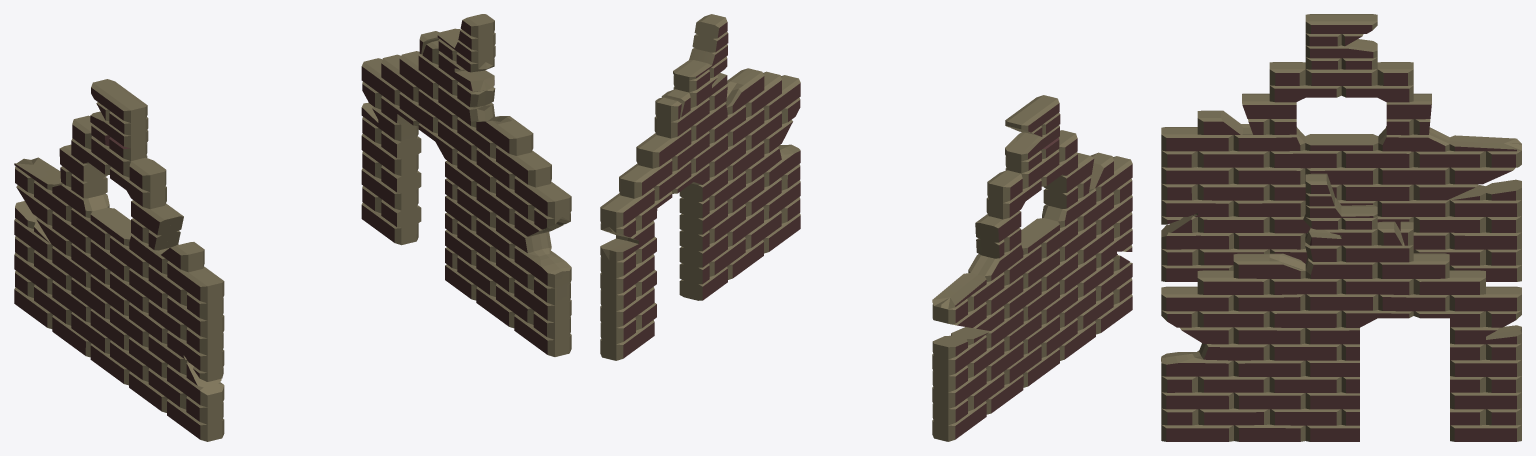
The model's file is house_ruins.fbx.
3 views of the same model, side by side, from view 1: azimuth 30°, elevation 25°; view 2: azimuth 150°, elevation 25°; view 3: azimuth 270°, elevation 25° (orthographic). The views are drawn at different scales.
Parts seen in each view (by area): view 1: broken_walls; view 2: broken_walls; view 3: broken_walls.
Part boxes in pixels (<box>): broken_walls: <box>14,14,571,441</box>; broken_walls: <box>600,14,1132,441</box>; broken_walls: <box>1161,14,1521,441</box>.
Bounding box in the file's own units: 7.36 × 5.22 × 6.57.
